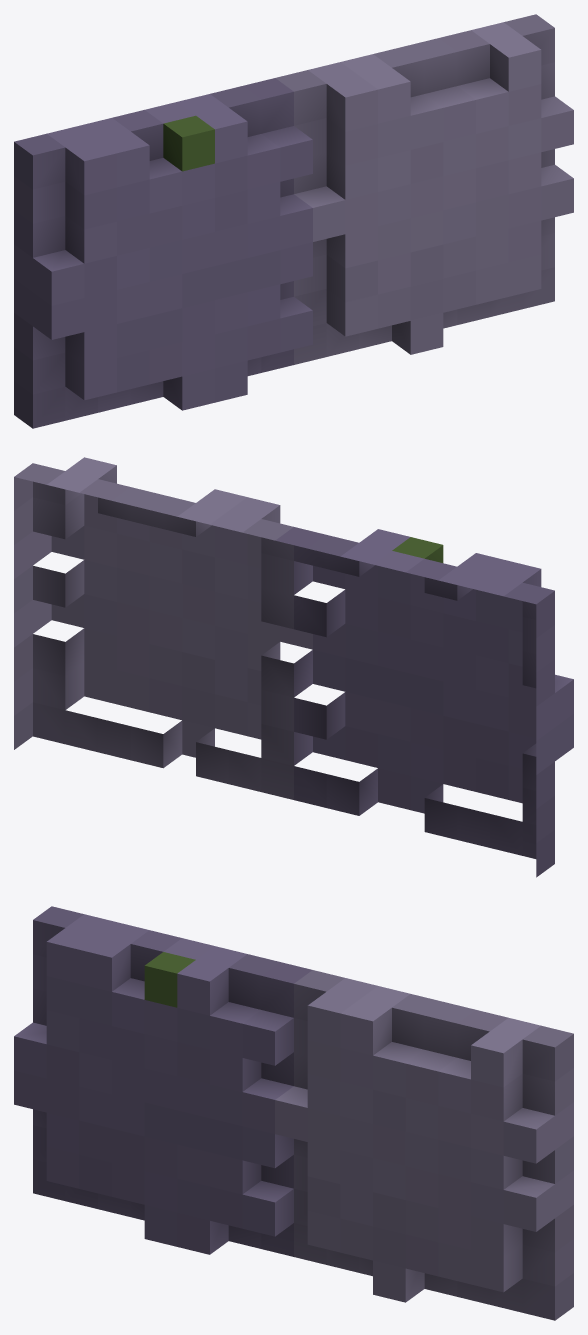
The model's file is ashlar_plain_2.glb.
3 views of the same model, one above another, from view 1: azimuth 30°, elevation 25°; view 2: azimuth 150°, elevation 25°; view 3: azimuth 330°, elevation 25° (orthographic).
Visible parts, largest first — view 1: ashlar_plain_2; view 2: ashlar_plain_2; view 3: ashlar_plain_2.
Part boxes in pixels (<box>): ashlar_plain_2: <box>14,14,573,428</box>; ashlar_plain_2: <box>14,457,573,877</box>; ashlar_plain_2: <box>14,906,573,1320</box>.
Bounding box in the file's own units: 1 × 0.5 × 0.125.
